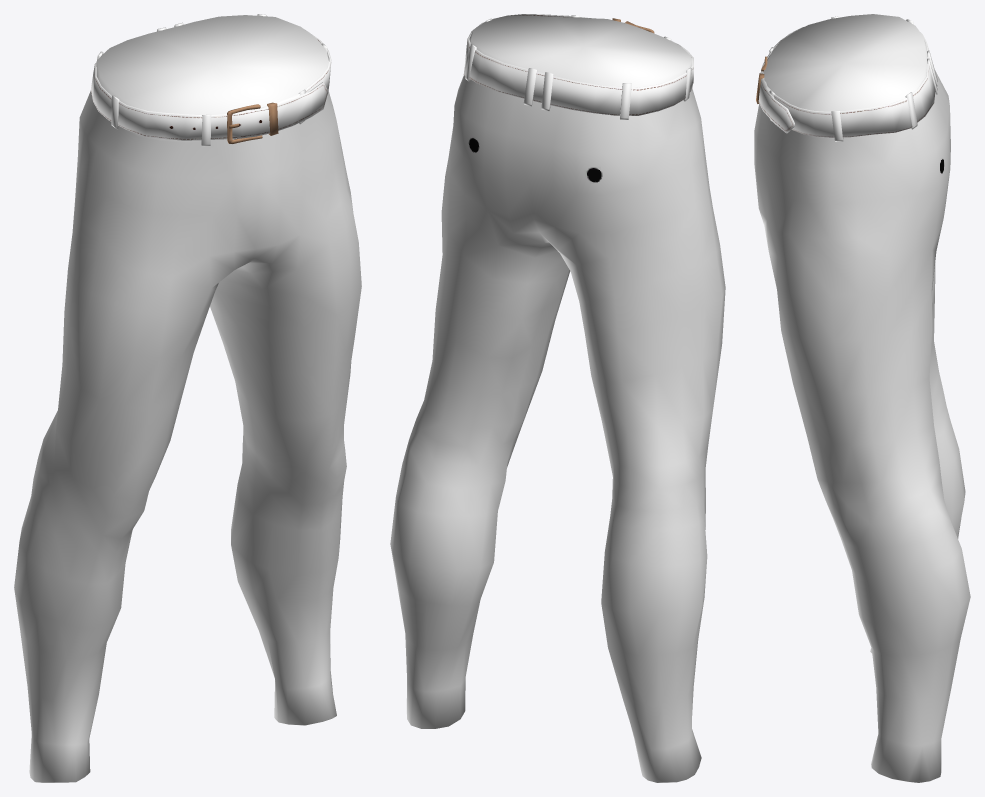
Rendered from SurvivorMale_Legs_Pants_GQ_LOD0.glb.
3 views of the same model, side by side, from view 1: azimuth 30°, elevation 25°; view 2: azimuth 150°, elevation 25°; view 3: azimuth 270°, elevation 25° (orthographic). The views are drawn at different scales.
Visible parts, largest first — view 1: Hoodie; view 2: Hoodie; view 3: Hoodie.
Part boxes in pixels (bbox=[...]): Hoodie: bbox=[14, 14, 361, 782]; Hoodie: bbox=[390, 14, 725, 782]; Hoodie: bbox=[754, 14, 970, 782].
Bounding box in the file's own units: 0.4669 × 1.01 × 0.2989.
1 material, 1 textured.
